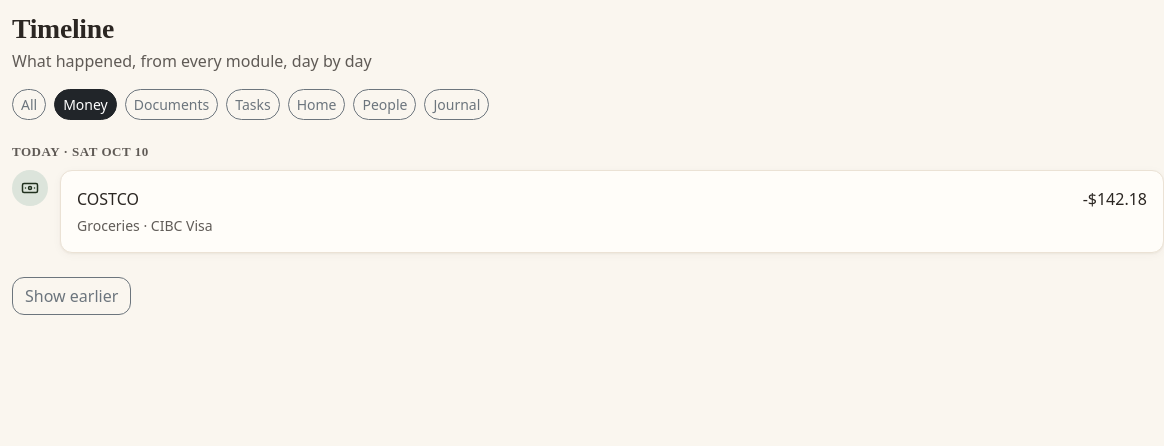
Scenario: TimelinePageComponent › filters by module through the address, and loads earlier days
The image size is (1164, 446).
Click the button with test id "earlier": point(72, 296) x1=12 y1=277 x2=131 y2=315
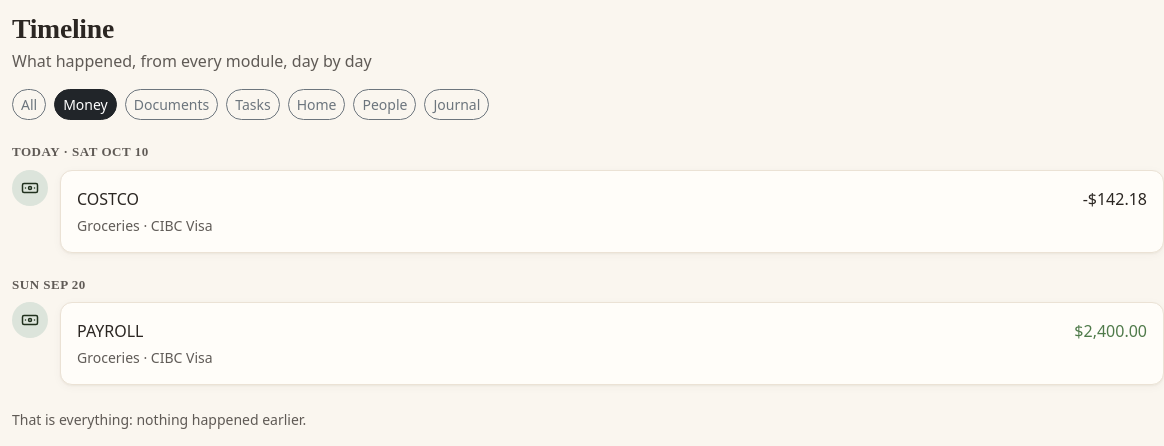
Expected: the link "Money" is shown, x1=54 y1=89 x2=117 y2=120
Result: the button with test id "earlier" is gone
Result: the text with test id "start" reads "That is everything: nothing happened earlier." at x1=12 y1=410 x2=306 y2=429
